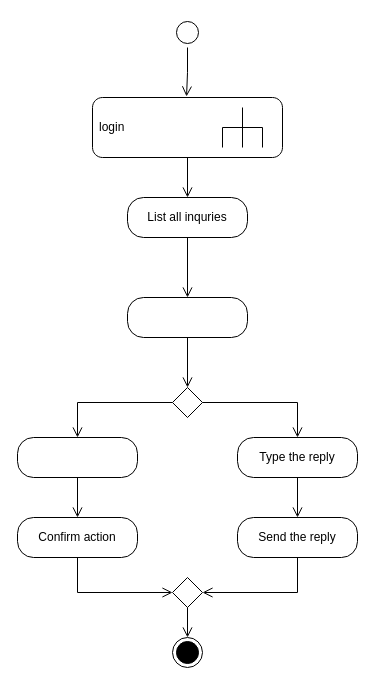
Some shapes in this 375 by 685 pixel diagram are drawn without their labels. The box of each missing label's shape, as (x1, y1, x2, y2) in pixels:
Delete: (16, 436, 138, 478)
Select inquire: (126, 296, 248, 338)
